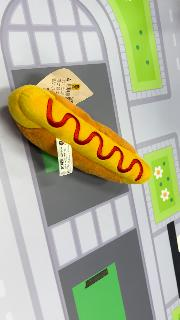hotdog: (8, 84, 152, 186)
